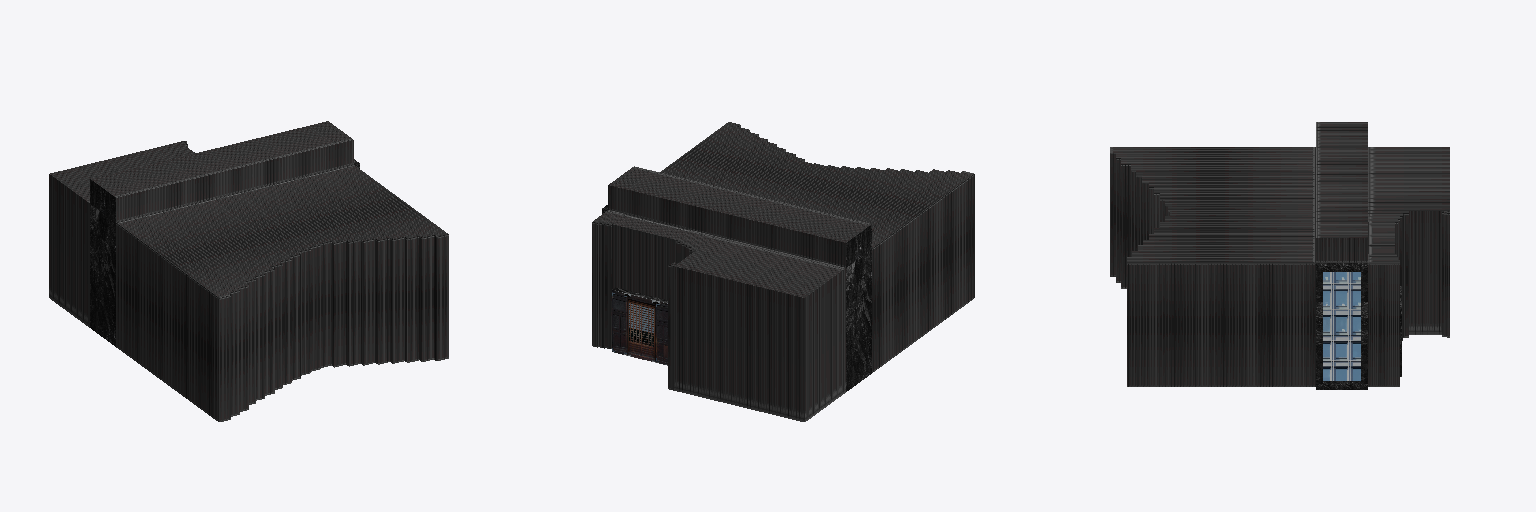
3 renders of one model, left to right at view 1: azimuth 30°, elevation 25°; view 2: azimuth 150°, elevation 25°; view 3: azimuth 270°, elevation 25°, orthographic.
Parts seen in each view (by area): view 1: Box001, Box036, Box002, Box024, Box023, Box021, Box020, Box018, Box017, Box019, Box015, Box016 (+12 smaller); view 2: Box024, Box001, Box036, Box002, Box029, Box041, Box023, Box032, Box030, Box031, Box033, Box003 (+1 smaller); view 3: Box001, Box021, Box024, Box036, Box023, Box032, Box004, Box002, Box003, Box005, Box006, Box029 (+6 smaller).
Part boxes in pixels (x1,y1,x2,y2): Box001: (116,165,404,384); Box036: (90,121,353,222); Box002: (168,258,230,421); Box024: (49,142,194,327); Box023: (90,204,115,346); Box021: (394,202,448,360); Box020: (382,205,433,361); Box018: (358,211,404,363); Box017: (347,214,389,364); Box019: (370,208,418,362); Box015: (323,220,360,366); Box016: (335,217,374,365); Box024: (674,236,845,421); Box001: (660,153,922,372); Box036: (608,166,871,267); Box002: (912,171,974,335); Box029: (612,214,690,299); Box041: (612,287,667,365); Box023: (846,249,871,391); Box032: (592,210,613,347); Box030: (605,213,625,348); Box031: (599,211,618,348); Box033: (668,264,674,390); Box003: (900,170,958,208); Box001: (1213,147,1315,386); Box021: (1127,257,1212,386); Box024: (1368,147,1449,334); Box036: (1316,122,1367,262); Box023: (1323,272,1360,380); Box032: (1368,260,1399,386); Box004: (1121,158,1212,288); Box002: (1110,147,1212,276); Box003: (1116,153,1212,282); Box005: (1131,164,1212,256); Box006: (1136,170,1212,250); Box029: (1368,222,1394,253).
Size of the model in its own units: 41 by 24 by 49.5.
Materials: 4 (4 with a texture image).